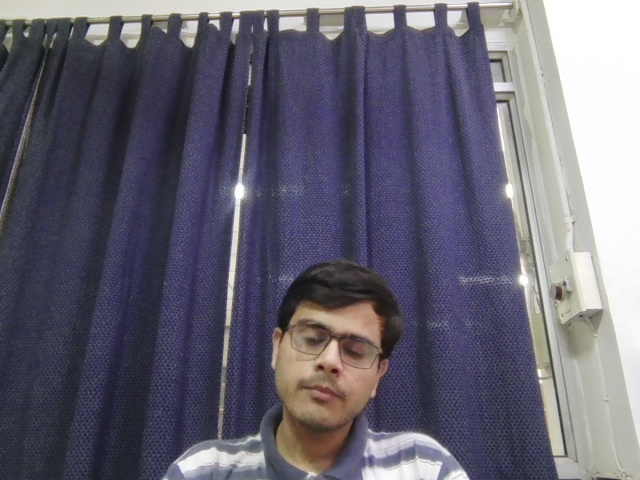face: (269, 260, 403, 431)
